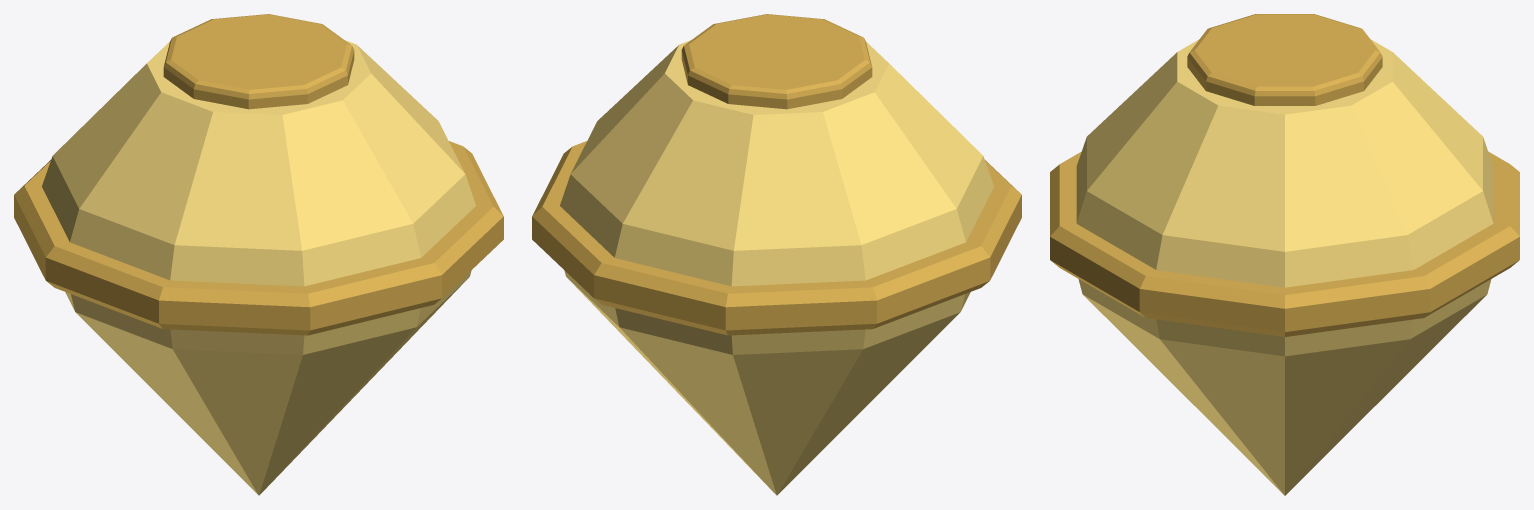
File: game-ui-icon-library-gem-round-legendary-1ba680d3__18969.glb
The picture shows the model from 3 angles, left to right: view 1: azimuth 30°, elevation 25°; view 2: azimuth 150°, elevation 25°; view 3: azimuth 270°, elevation 25°; orthographic projection.
Visible parts, largest first — view 1: gem-round-legendary; view 2: gem-round-legendary; view 3: gem-round-legendary.
Boxes of the visible parts, left/top/right/bottom form: gem-round-legendary: left=14, top=14, right=503, bottom=495; gem-round-legendary: left=532, top=14, right=1021, bottom=495; gem-round-legendary: left=1050, top=14, right=1519, bottom=495.
Bounding box in the file's own units: 0.8412 × 0.8368 × 0.8.
